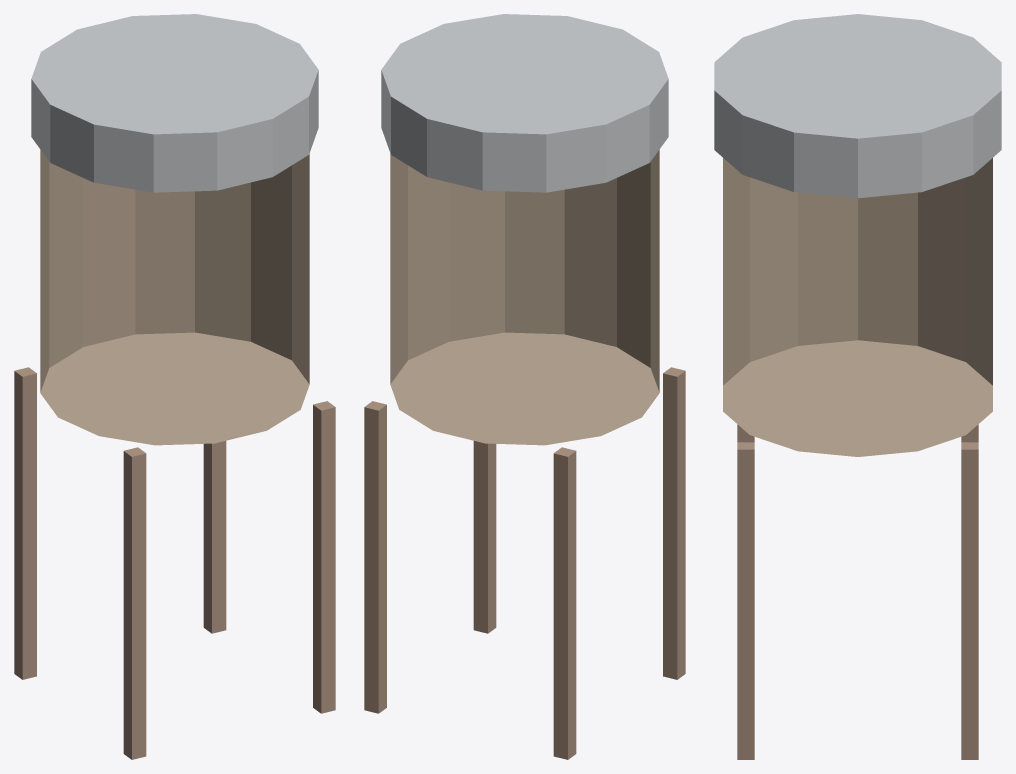
Rendered from water_tank.glb.
3 views of the same model, side by side, from view 1: azimuth 30°, elevation 25°; view 2: azimuth 150°, elevation 25°; view 3: azimuth 270°, elevation 25° (orthographic). The views are drawn at different scales.
Visible parts, largest first — view 1: props_water_tank; view 2: props_water_tank; view 3: props_water_tank.
Boxes of the visible parts, x1=… form: props_water_tank: x1=14, y1=14, x2=335, y2=759; props_water_tank: x1=364, y1=14, x2=685, y2=759; props_water_tank: x1=714, y1=14, x2=1001, y2=759.
Size of the model in its own units: 2.24 by 5.3 by 2.18.
